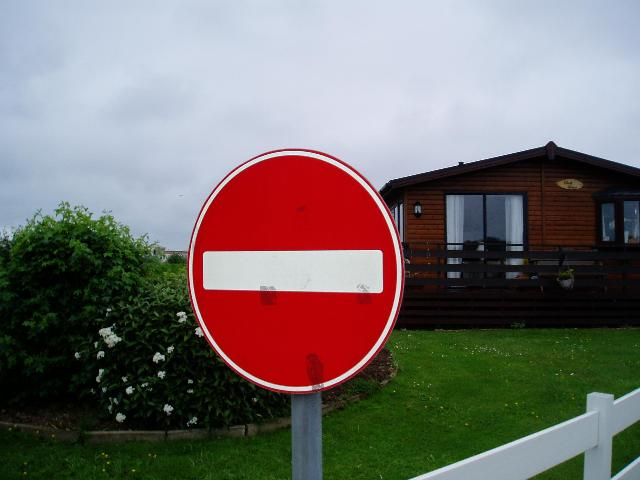B2: (182, 144, 408, 396)
